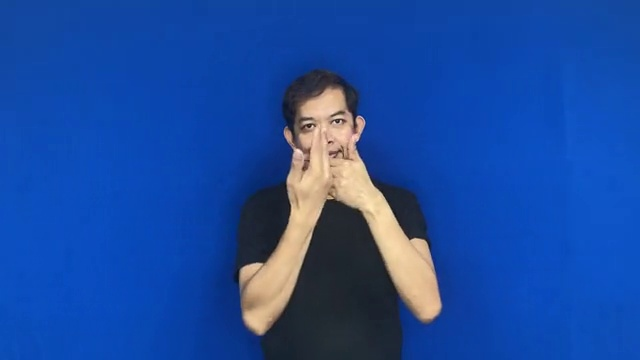bread: (283, 120, 375, 233)
